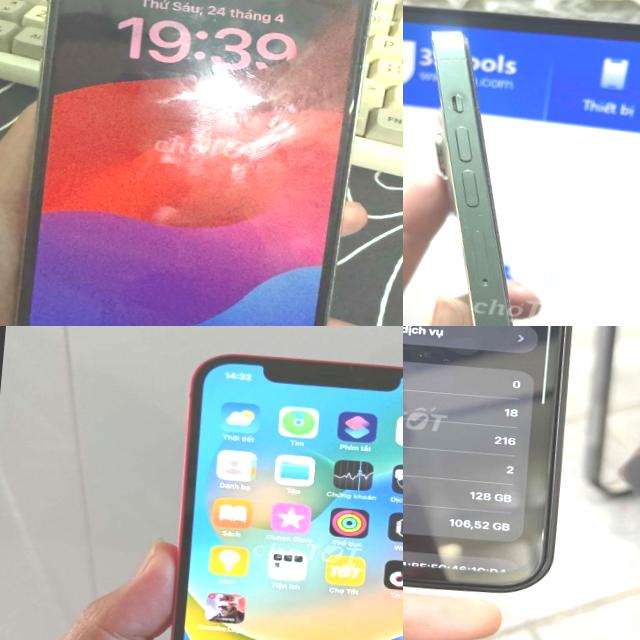gen_12_13: (156, 351, 403, 640), (403, 326, 603, 618)
gen_15: (403, 26, 605, 326)
gen_x_xs: (0, 0, 394, 326)
